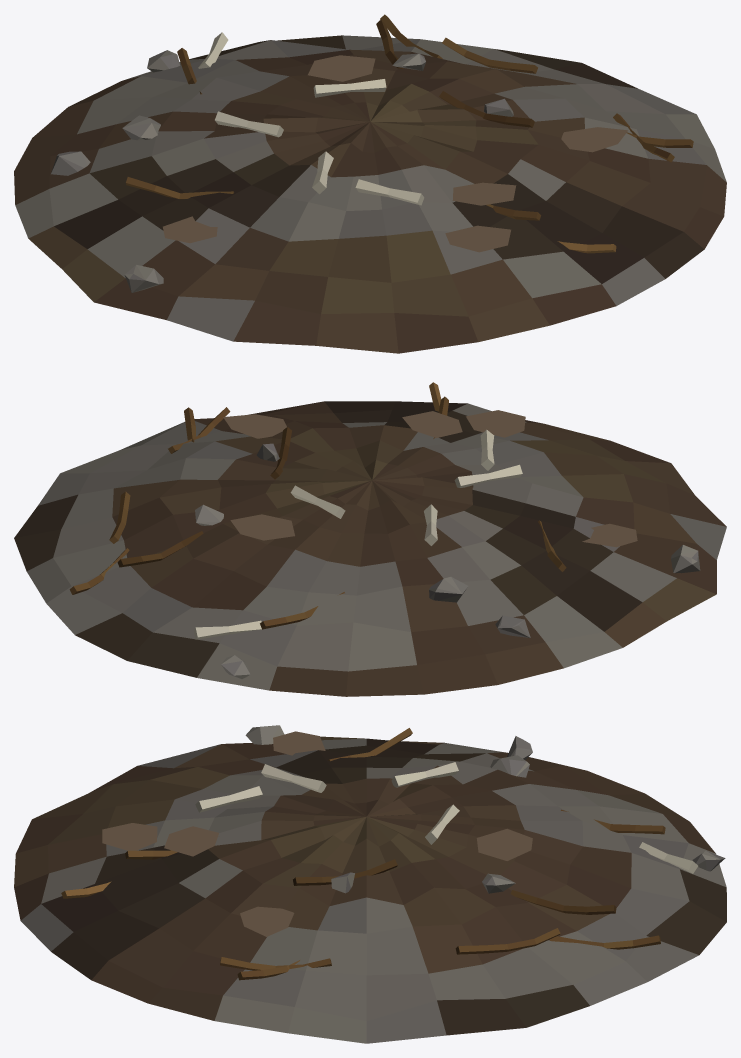
Rendered from waste_pit_stracolma.glb.
3 views of the same model, one above another, from view 1: azimuth 30°, elevation 25°; view 2: azimuth 150°, elevation 25°; view 3: azimuth 270°, elevation 25° (orthographic). The views are drawn at different scales.
Visible parts, largest first — view 1: waste_pit_stracolma; view 2: waste_pit_stracolma; view 3: waste_pit_stracolma.
Boxes of the visible parts, box(x1,y1,x2,y2) form: waste_pit_stracolma: box(14, 14, 726, 353); waste_pit_stracolma: box(14, 382, 726, 696); waste_pit_stracolma: box(14, 725, 726, 1043).
Size of the model in its own units: 7.29 by 0.8589 by 7.11.
